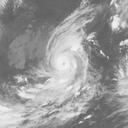cyclone: (43, 33, 92, 96)
